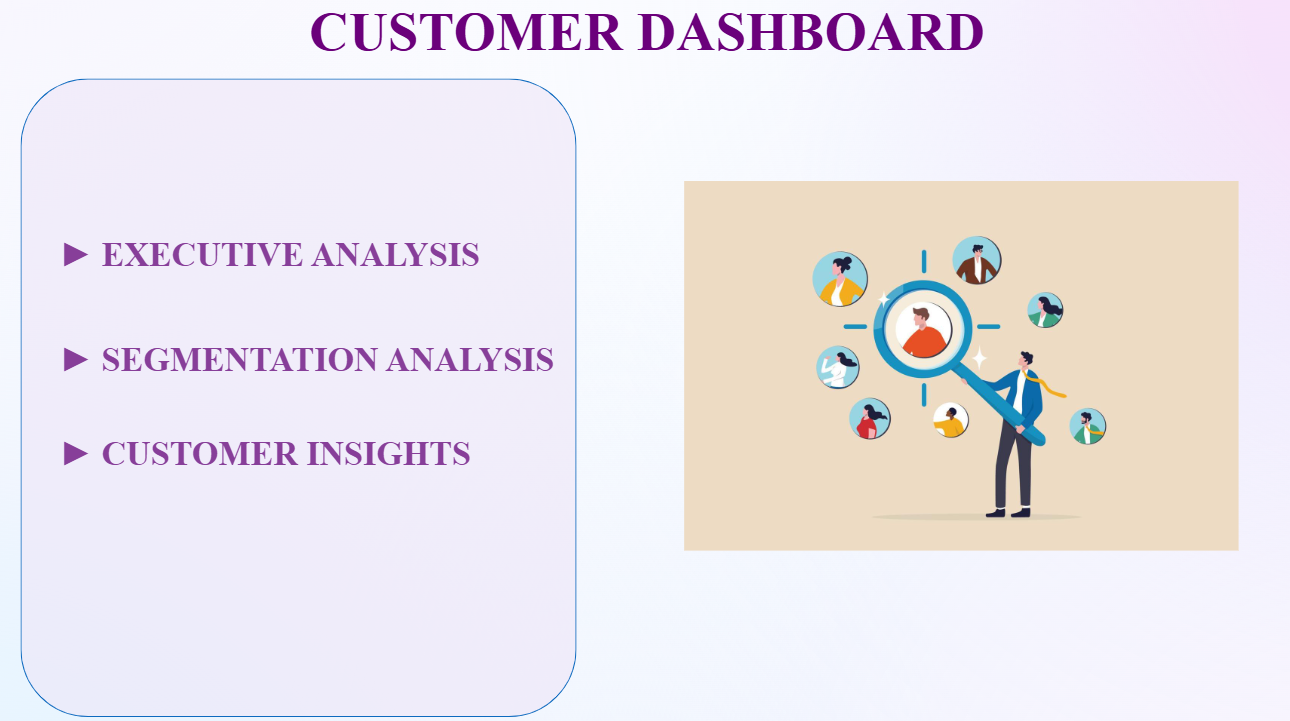

This screenshot's page, from the dashboard's own definition file:
{"tool":"powerbi","page":{"name":"Page 4","canvas":[1280,720],"ordinal":0},"visuals":[{"type":"textbox","box":[295.8,0,688.2,70.7],"z":0},{"type":"shape","box":[27.4,80.8,543.9,624.7],"z":1000},{"type":"actionButton","title":"► SEGMENTATION ANALYSIS","box":[64.9,336.2,494.9,50.5],"z":2000},{"type":"actionButton","title":"► EXECUTIVE ANALYSIS","box":[64.9,233.7,421.3,40.4],"z":3000},{"type":"actionButton","title":"► CUSTOMER INSIGHTS","box":[64.9,428.5,494.9,50.5],"z":4000},{"type":"image","box":[671.3,180.6,551.8,361.2],"z":5000}]}

Visuals, with their boxes in screenshot pixels (x1, y1, x2, y2), scaled from the page's 1280x720 canvas onto the 1290x721 screenshot:
textbox: (left=298, top=0, right=992, bottom=71)
shape: (left=28, top=81, right=576, bottom=706)
"► SEGMENTATION ANALYSIS" actionButton: (left=65, top=337, right=564, bottom=387)
"► EXECUTIVE ANALYSIS" actionButton: (left=65, top=234, right=490, bottom=274)
"► CUSTOMER INSIGHTS" actionButton: (left=65, top=429, right=564, bottom=480)
image: (left=677, top=181, right=1233, bottom=543)
